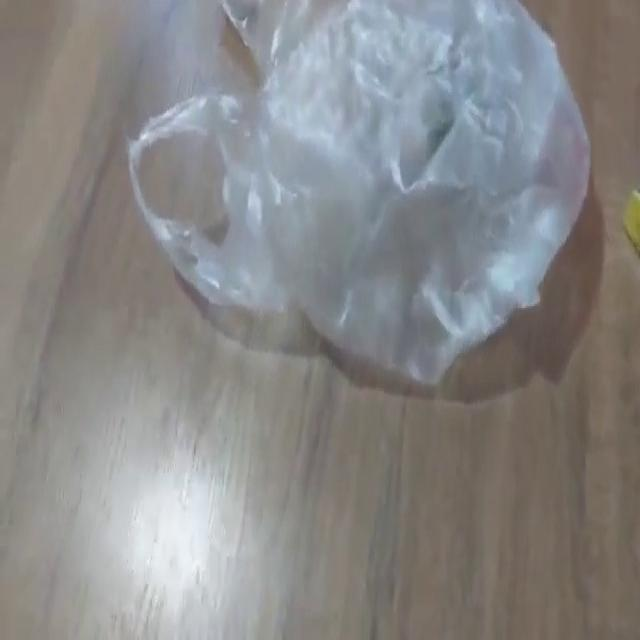Anorganik: (121, 2, 598, 395)
